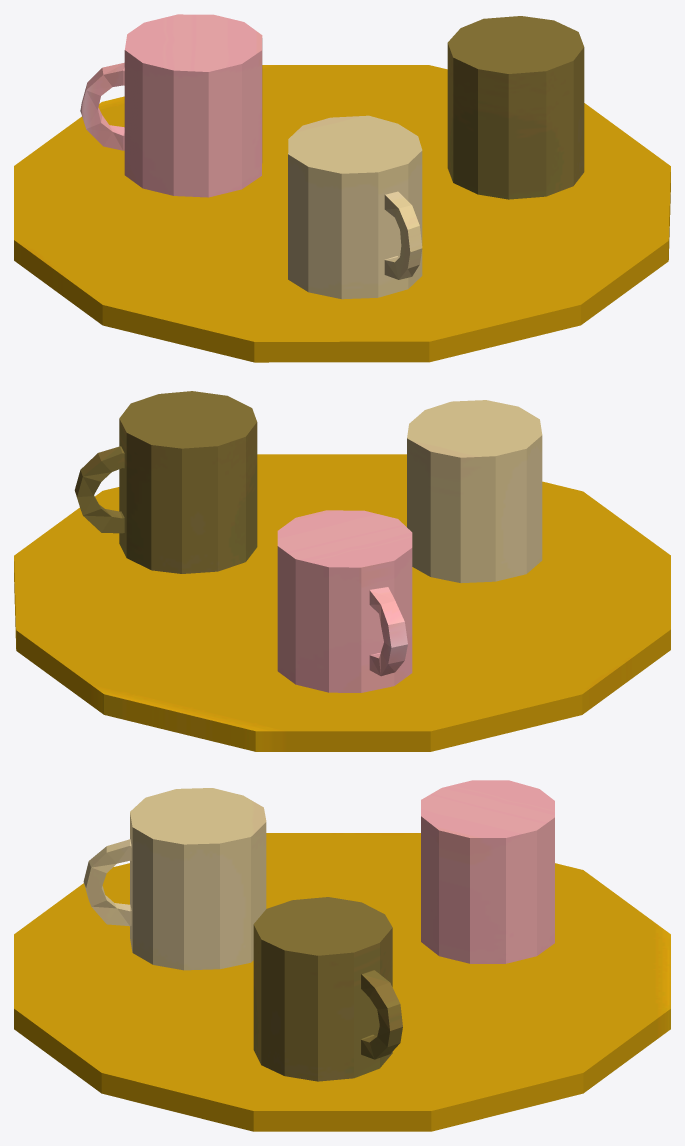
Rendered from CofTray.glb.
3 renders of one model, top to bottom at view 1: azimuth 30°, elevation 25°; view 2: azimuth 150°, elevation 25°; view 3: azimuth 270°, elevation 25°, orthographic.
Visible parts, largest first — view 1: CofTray; view 2: CofTray; view 3: CofTray.
Boxes of the visible parts, box(x1,y1,x2,y2) form: CofTray: box(14, 14, 670, 362); CofTray: box(14, 391, 670, 751); CofTray: box(14, 780, 670, 1131).
Size of the model in its own units: 134 by 32.93 by 134.
Materials: 1 (1 with a texture image).
